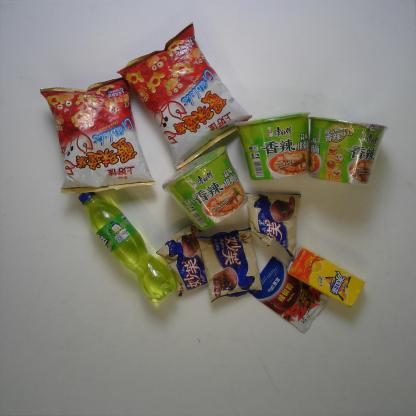Dessert: (197, 227, 264, 303), (244, 190, 301, 258), (156, 224, 208, 298)
Drink: (78, 190, 178, 304), (285, 245, 367, 308)
Instant Noodles: (161, 145, 249, 232), (308, 114, 390, 184), (233, 109, 312, 181)
Puffed Food: (115, 21, 254, 170), (40, 75, 158, 195)
Seasoner: (247, 256, 330, 334)
